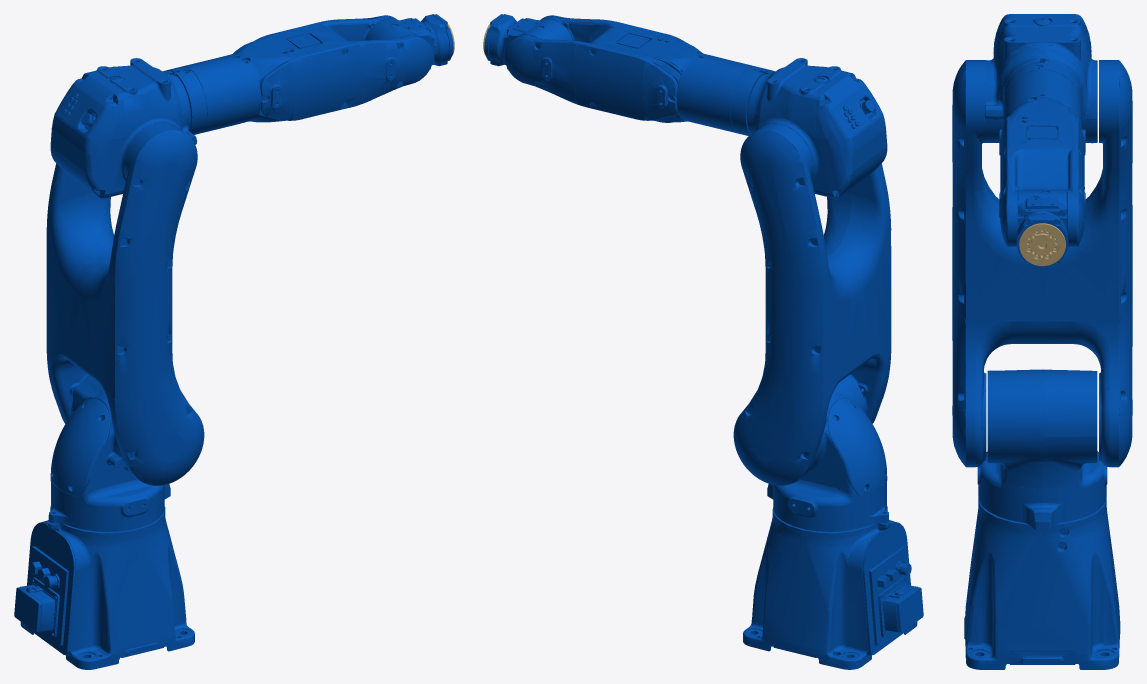
File: Yaskawa_AR900.glb
The picture shows the model from 3 angles, left to right: view 1: azimuth 30°, elevation 25°; view 2: azimuth 150°, elevation 25°; view 3: azimuth 270°, elevation 25°; orthographic projection. The views are drawn at different scales.
Parts seen in each view (by area): view 1: AR900_L02, AR900_L00, AR900_L04, AR900_L03, AR900_L01, AR900_L05; view 2: AR900_L02, AR900_L00, AR900_L04, AR900_L03, AR900_L01, AR900_L05; view 3: AR900_L02, AR900_L00, AR900_L01, AR900_L04, AR900_L03, AR900_L05, AR900_L06.
Part boxes in pixels (x1,y1,x2,y2): AR900_L02: (46, 123, 204, 485); AR900_L00: (14, 506, 194, 669); AR900_L04: (167, 15, 433, 134); AR900_L03: (50, 58, 197, 198); AR900_L01: (48, 375, 170, 531); AR900_L05: (365, 14, 453, 69); AR900_L02: (733, 123, 891, 485); AR900_L00: (743, 506, 923, 669); AR900_L04: (504, 15, 770, 135); AR900_L03: (747, 58, 887, 198); AR900_L01: (767, 375, 888, 531); AR900_L05: (484, 14, 572, 69); AR900_L02: (952, 60, 1132, 467); AR900_L00: (964, 498, 1120, 669); AR900_L01: (977, 369, 1107, 529); AR900_L04: (999, 61, 1085, 246); AR900_L03: (985, 14, 1097, 143); AR900_L05: (1016, 189, 1068, 267); AR900_L06: (1019, 223, 1065, 266).
Bounding box in the file's own units: 0.6973 × 0.8783 × 0.2304.
